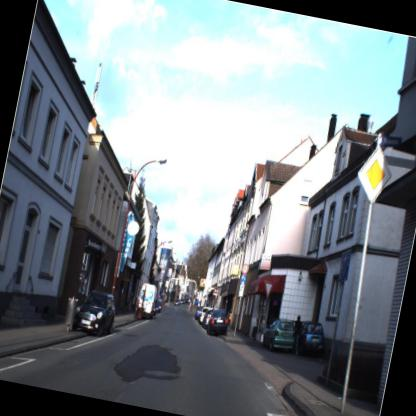other: (350, 142, 396, 208), (258, 277, 276, 303)
prohibitory: (236, 257, 252, 277)
